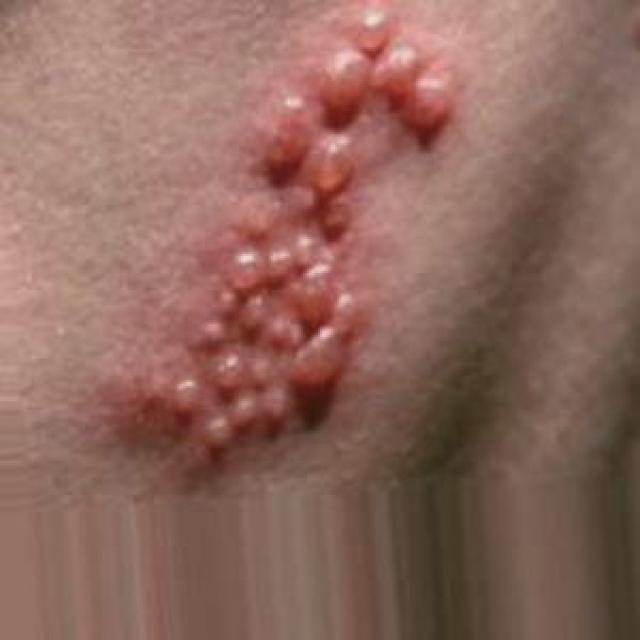Shingles: (174, 6, 452, 457)
